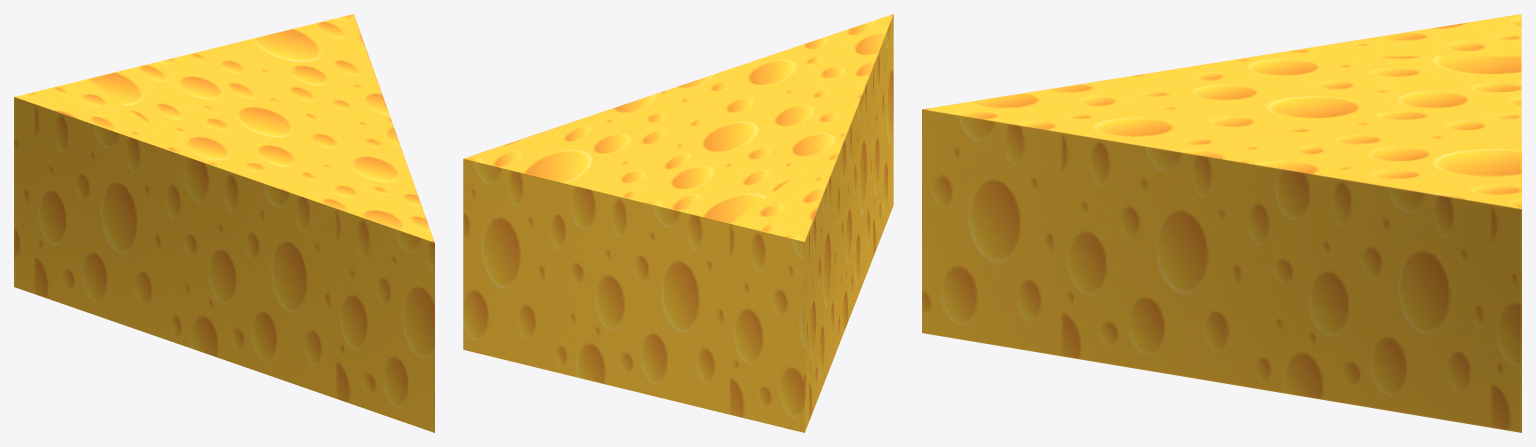
The picture shows the model from 3 angles, left to right: view 1: azimuth 30°, elevation 25°; view 2: azimuth 150°, elevation 25°; view 3: azimuth 270°, elevation 25°; orthographic projection. The views are drawn at different scales.
Parts seen in each view (by area): view 1: Cheese; view 2: Cheese; view 3: Cheese.
Part boxes in pixels (x1,y1,x2,y2): Cheese: (14, 14, 434, 432); Cheese: (463, 14, 893, 432); Cheese: (922, 14, 1521, 432).
Size of the model in its own units: 0.1783 by 0.0953 by 0.2315.
1 material, 1 textured.
